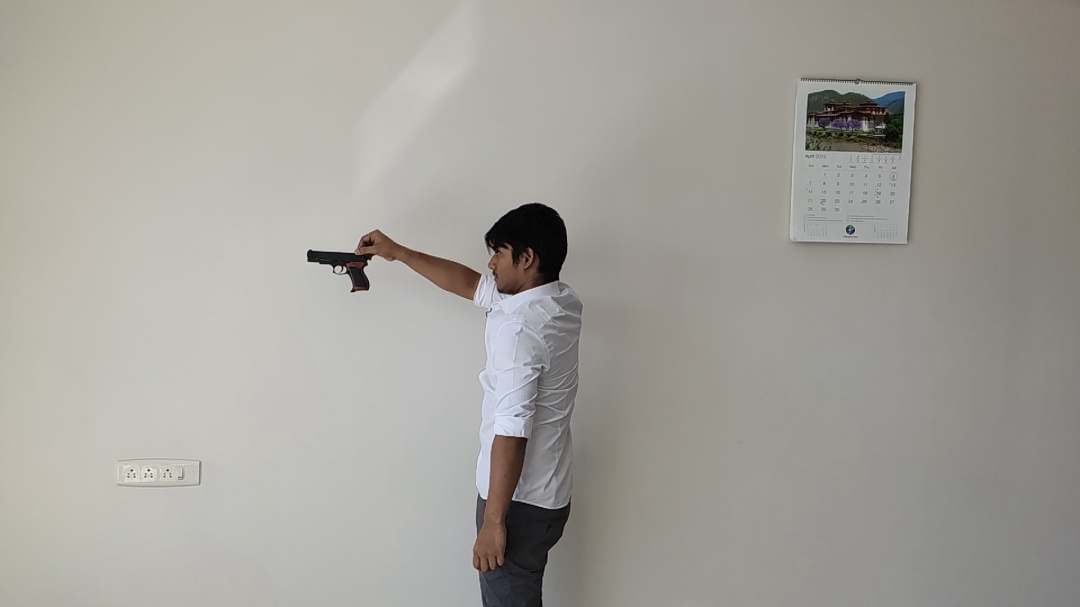gun: (161, 79, 832, 493)
